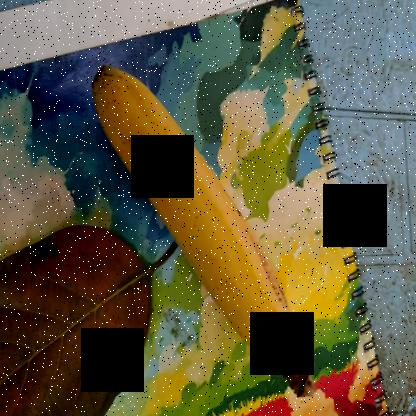freshripe: (90, 59, 290, 373)
